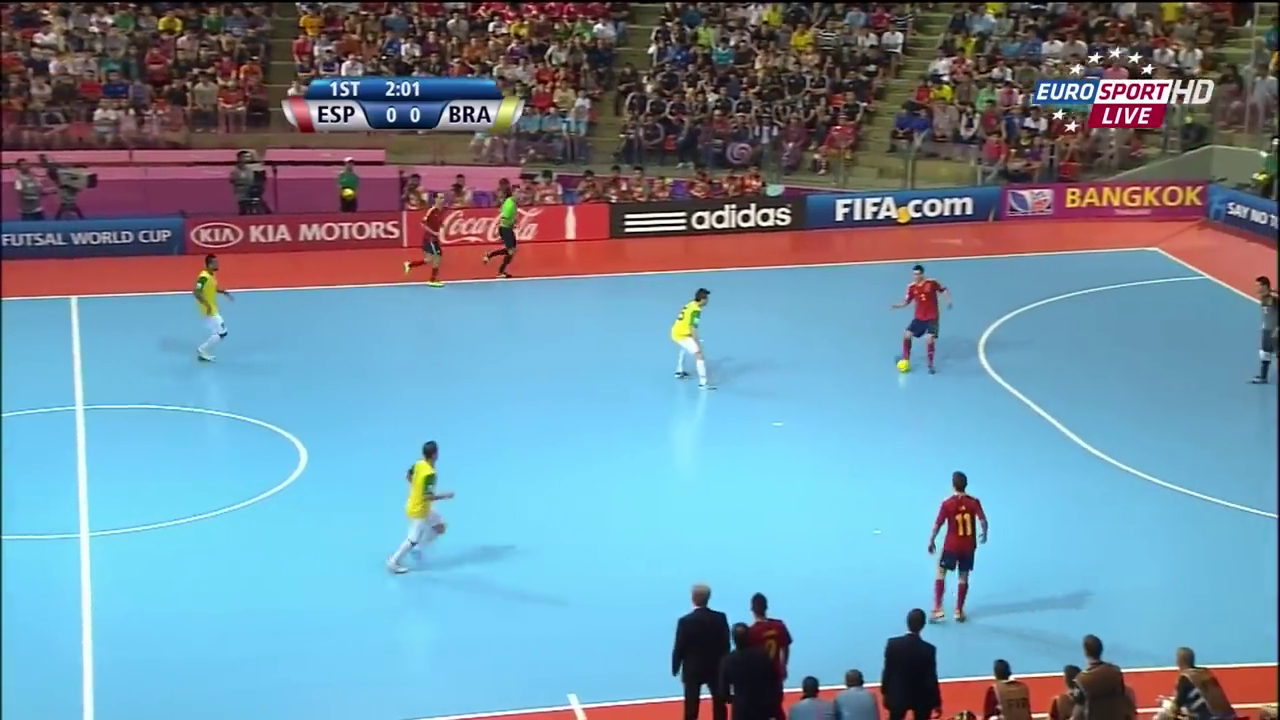ball: (896, 356, 912, 375)
person: (372, 438, 453, 580), (919, 467, 991, 621), (891, 265, 953, 377), (181, 248, 237, 365), (657, 282, 712, 393), (399, 189, 448, 289), (1241, 272, 1280, 387)
